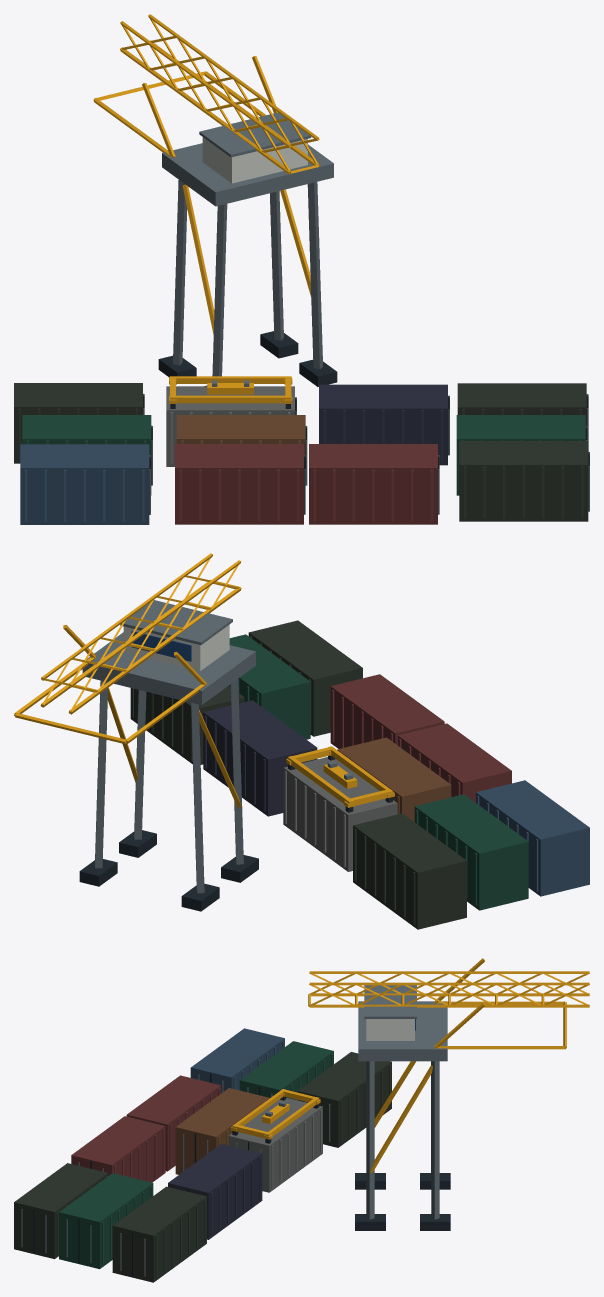
Rendered from gantry-crane-nw-se-01.glb.
3 views of the same model, one above another, from view 1: azimuth 30°, elevation 25°; view 2: azimuth 150°, elevation 25°; view 3: azimuth 270°, elevation 25° (orthographic). The views are drawn at different scales.
Visible parts, largest first — view 1: gantry-crane-nw-se-01; view 2: gantry-crane-nw-se-01; view 3: gantry-crane-nw-se-01.
Part boxes in pixels (x1,y1,x2,y2): gantry-crane-nw-se-01: (14, 14, 589, 524); gantry-crane-nw-se-01: (14, 553, 589, 929); gantry-crane-nw-se-01: (14, 958, 589, 1282).
Bounding box in the file's own units: 60.48 × 31.18 × 70.99.
